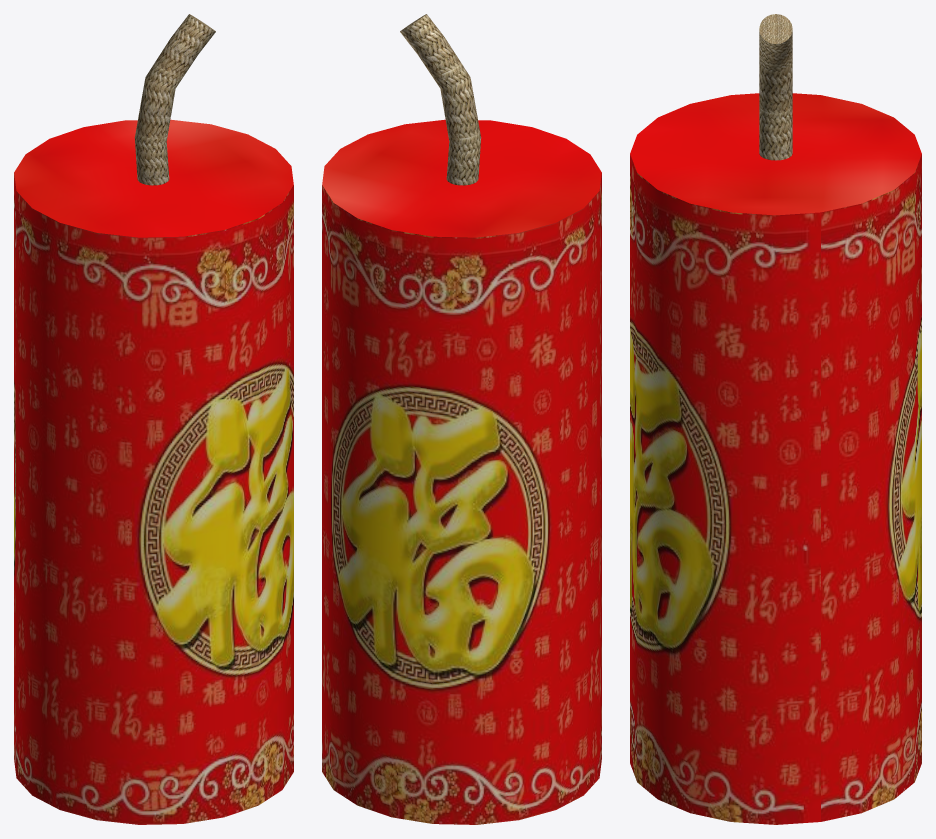
File: bianpao.fbx
The picture shows the model from 3 angles, left to right: view 1: azimuth 30°, elevation 25°; view 2: azimuth 150°, elevation 25°; view 3: azimuth 270°, elevation 25°; orthographic projection. The views are drawn at different scales.
Visible parts, largest first — view 1: pCylinder1, pCylinder2; view 2: pCylinder1, pCylinder2; view 3: pCylinder1, pCylinder2.
Part boxes in pixels (bbox=[...]): pCylinder1: bbox=[14, 119, 293, 824]; pCylinder2: bbox=[134, 14, 215, 185]; pCylinder1: bbox=[322, 119, 601, 824]; pCylinder2: bbox=[400, 14, 481, 185]; pCylinder1: bbox=[630, 93, 921, 824]; pCylinder2: bbox=[759, 14, 792, 160].
Size of the model in its own units: 17.44 by 50.66 by 17.44.
2 materials, 2 textured.
